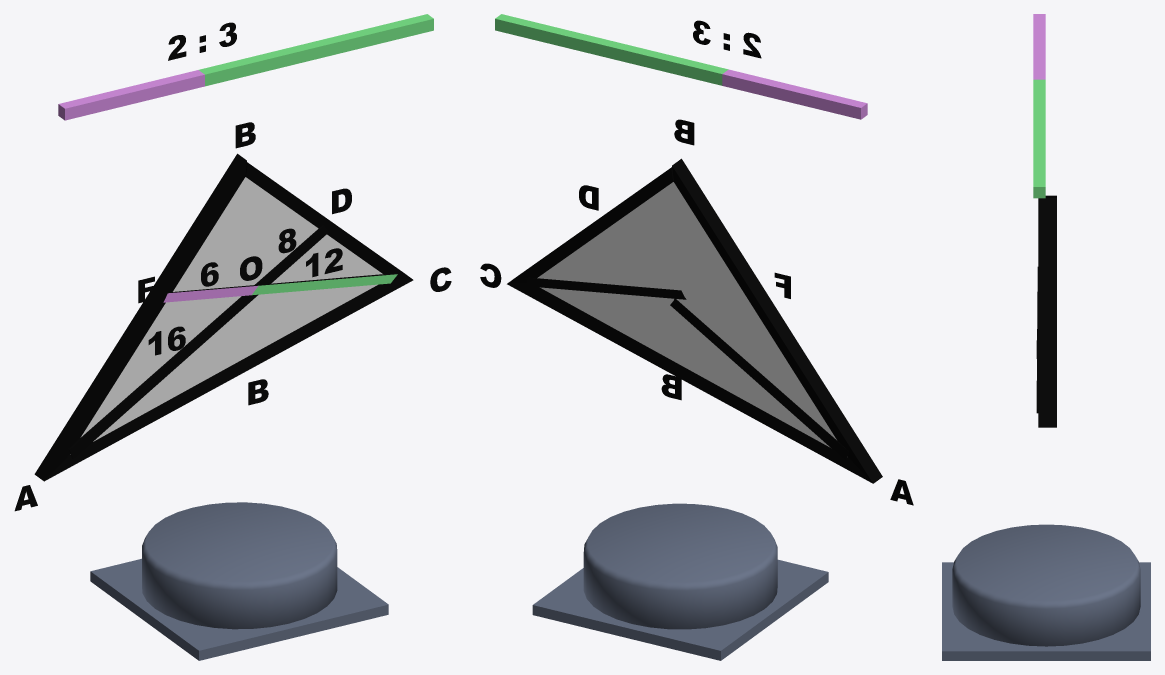
The picture shows the model from 3 angles, left to right: view 1: azimuth 30°, elevation 25°; view 2: azimuth 150°, elevation 25°; view 3: azimuth 270°, elevation 25°; orthographic projection. The views are drawn at different scales.
Parts seen in each view (by area): view 1: Cube.001, Cylinder, Cube, Cube.004, Cube.002, Cube.003, Text.012; view 2: Cube.001, Cylinder, Cube, Cube.004, Cube.002, Cube.003, Text.012; view 3: Cylinder, Cube, Cube.001, Cube.004.
Part boxes in pixels (box(x1,y1,x2,y2)): Cube.001: box(34, 153, 413, 481); Cylinder: box(142, 502, 337, 629); Cube: box(90, 558, 388, 660); Cube.004: box(58, 14, 433, 120); Cube.002: box(68, 225, 328, 458); Cube.003: box(163, 273, 397, 302); Text.012: box(168, 22, 236, 60); Cube.001: box(507, 158, 882, 483); Cylinder: box(583, 503, 777, 629); Cube: box(532, 559, 828, 660); Cube.004: box(495, 14, 867, 119); Cube.002: box(670, 298, 848, 460); Cube.003: box(524, 277, 686, 299); Text.012: box(693, 20, 761, 58); Cylinder: box(952, 524, 1140, 646); Cube: box(942, 562, 1150, 660); Cube.001: box(1038, 195, 1056, 427); Cube.004: box(1033, 14, 1045, 198).
Bounding box in the file's own units: 21.1 × 26.87 × 9.09.
